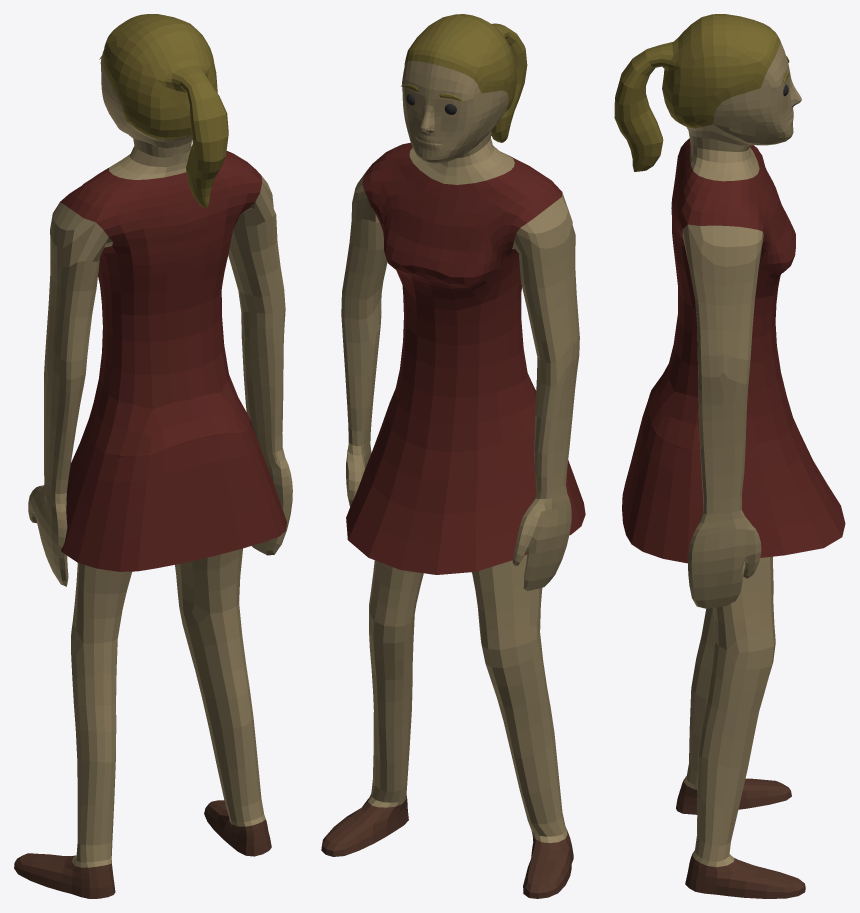
File: Smooth_Female_Dress.glb
The picture shows the model from 3 angles, left to right: view 1: azimuth 30°, elevation 25°; view 2: azimuth 150°, elevation 25°; view 3: azimuth 270°, elevation 25°; orthographic projection.
Visible parts, largest first — view 1: Smooth_Female_Dress; view 2: Smooth_Female_Dress; view 3: Smooth_Female_Dress.
Boxes of the visible parts, bbox=[...] form: Smooth_Female_Dress: bbox=[14, 14, 292, 898]; Smooth_Female_Dress: bbox=[321, 14, 585, 898]; Smooth_Female_Dress: bbox=[614, 14, 845, 898].
Size of the model in its own units: 1.37 by 4.64 by 1.18.
